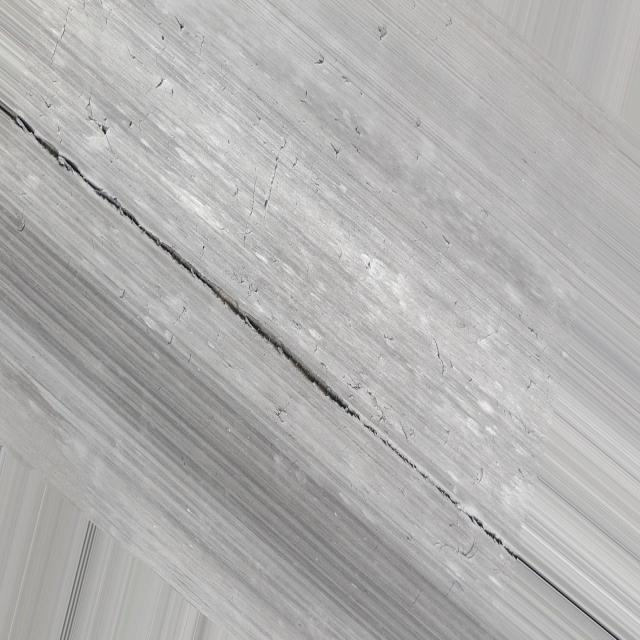Puncture: (330, 143, 340, 158), (175, 16, 184, 32), (102, 126, 107, 134), (129, 122, 132, 127)
Tear: (12, 112, 518, 560)
